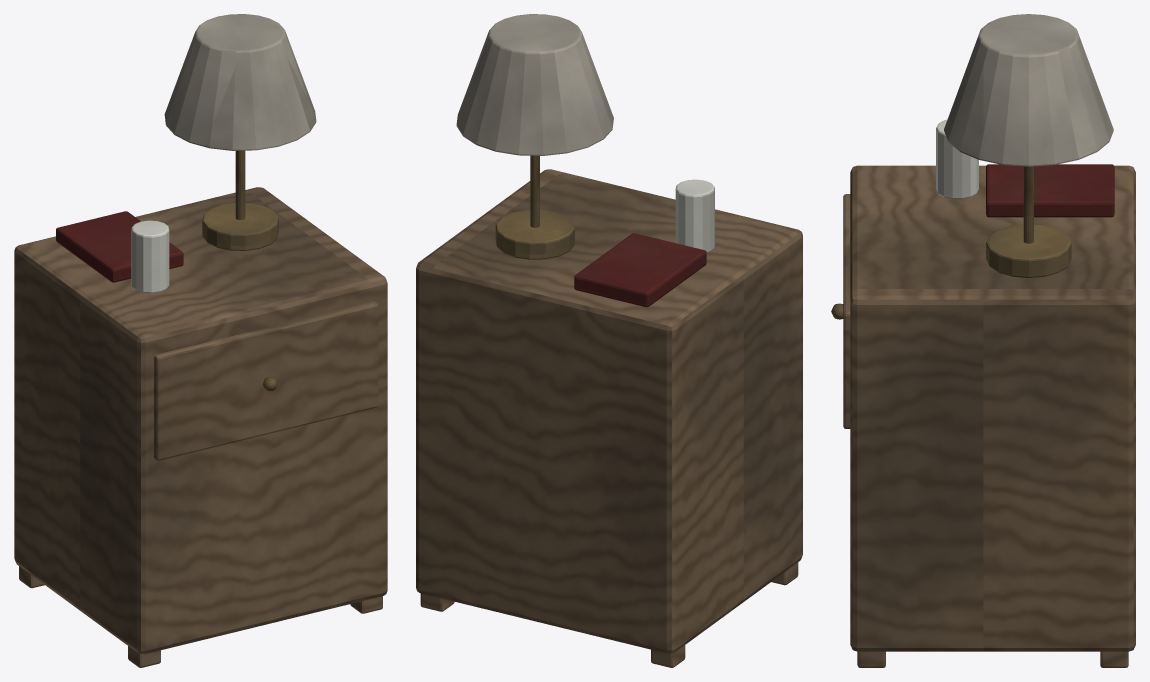
The model's file is B06_nightstand_v2.glb.
The picture shows the model from 3 angles, left to right: view 1: azimuth 30°, elevation 25°; view 2: azimuth 150°, elevation 25°; view 3: azimuth 270°, elevation 25°; orthographic projection. The views are drawn at different scales.
Parts seen in each view (by area): view 1: B06_nightstand_v2; view 2: B06_nightstand_v2; view 3: B06_nightstand_v2.
Boxes of the visible parts, box(x1,y1,x2,y2) form: B06_nightstand_v2: box(14, 14, 387, 667); B06_nightstand_v2: box(416, 14, 802, 667); B06_nightstand_v2: box(831, 14, 1135, 667).
Bounding box in the file's own units: 0.2432 × 0.5 × 0.2308.
5 materials, 5 textured.
